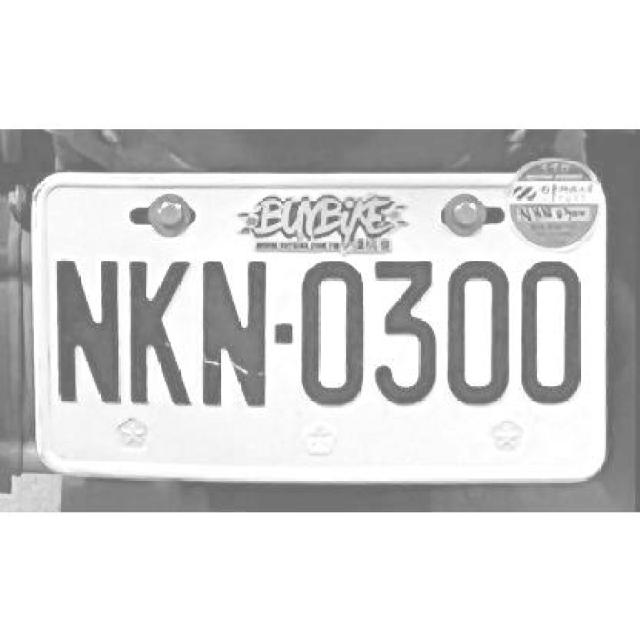-: (274, 320, 294, 345)
0: (445, 256, 512, 410), (298, 252, 364, 405), (517, 256, 583, 404)
3: (371, 256, 440, 406)
K: (121, 256, 190, 410)
N: (198, 252, 271, 411), (49, 256, 122, 406)
